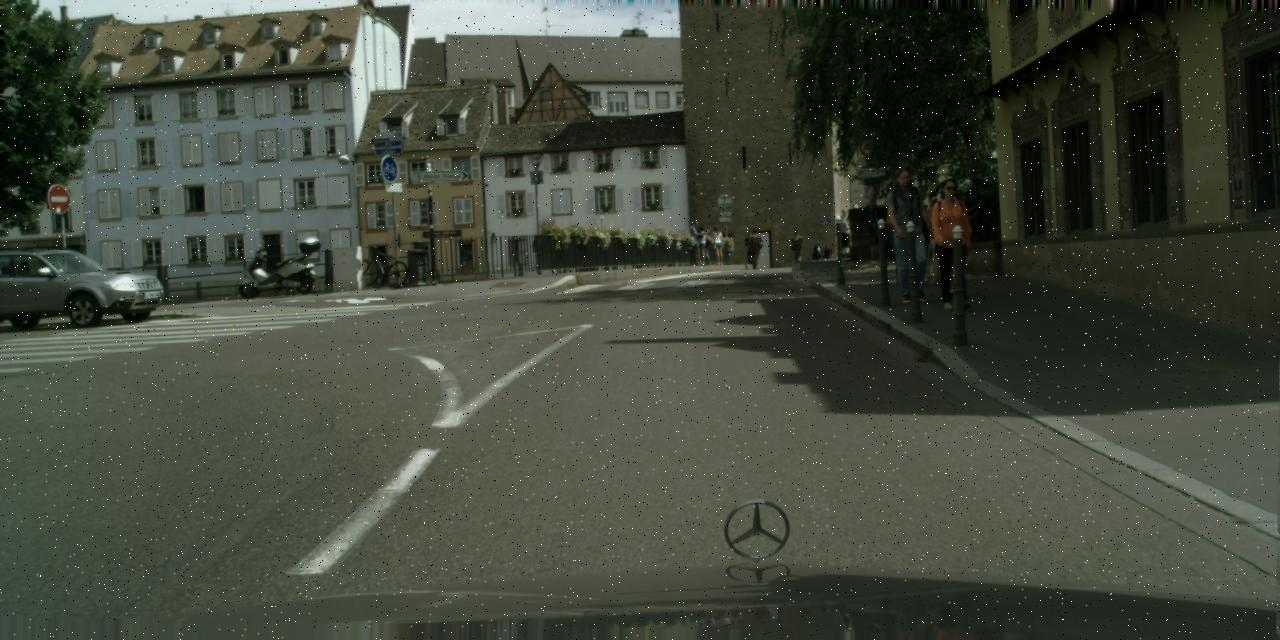ped: (882, 168, 938, 302), (926, 177, 980, 309), (836, 208, 856, 258), (689, 219, 707, 265), (744, 228, 763, 270), (789, 229, 805, 269), (694, 227, 710, 264), (711, 226, 726, 265), (695, 227, 710, 265), (811, 242, 822, 270), (822, 244, 832, 268)
